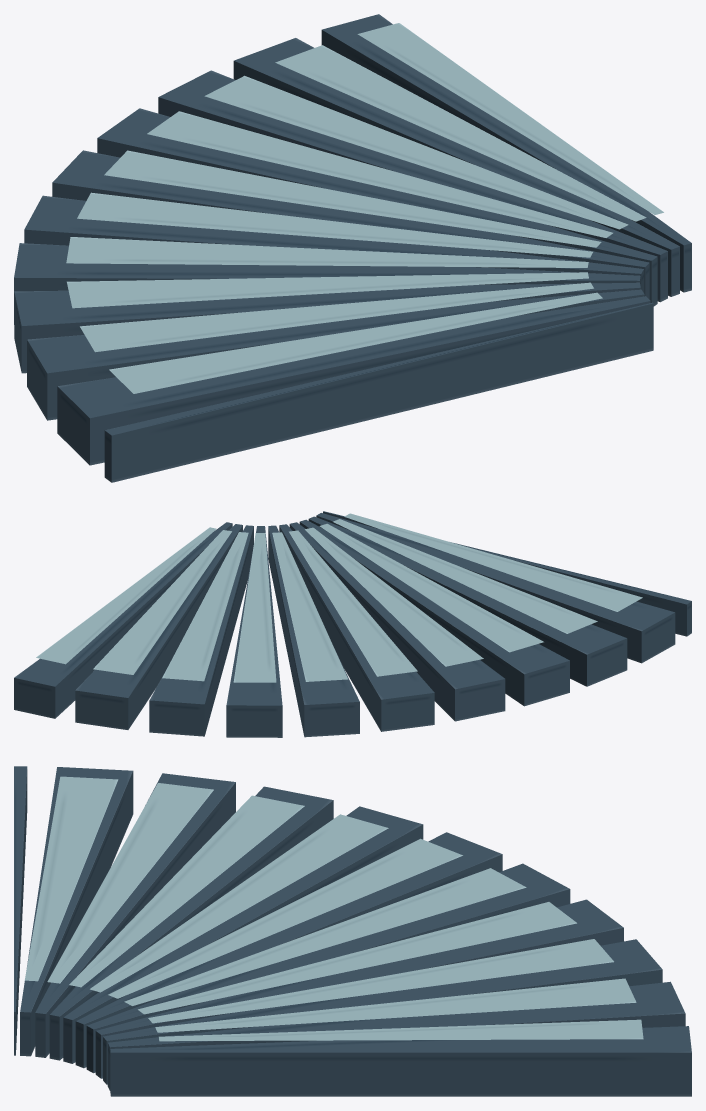
File: sc_tread_curve_right_21.obj
The picture shows the model from 3 angles, top to bottom: view 1: azimuth 30°, elevation 25°; view 2: azimuth 150°, elevation 25°; view 3: azimuth 270°, elevation 25°; orthographic projection. The views are drawn at different scales.
Size of the model in its own units: 17.5 by 1.56 by 17.5.
Materials: 1 (1 with a texture image).
